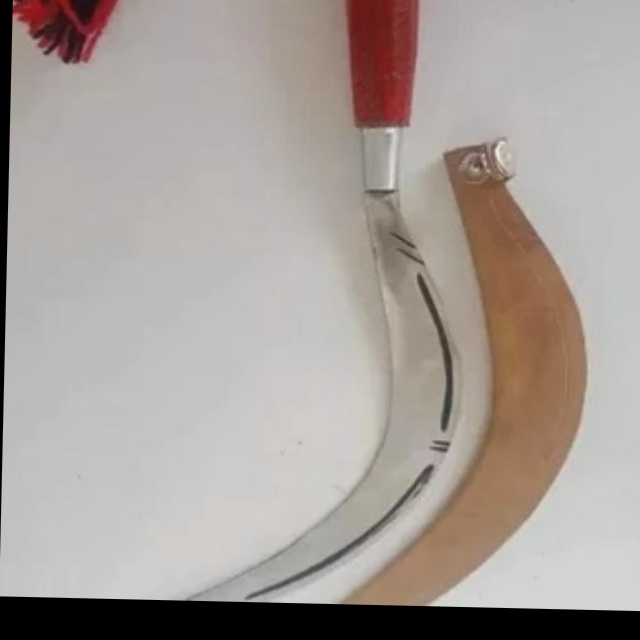Sharp-Object: (202, 0, 475, 607)
